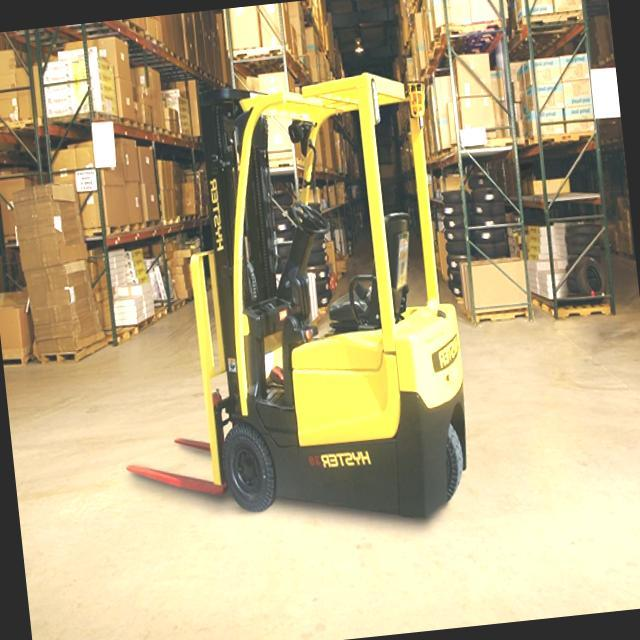forklift: (162, 49, 499, 550)
